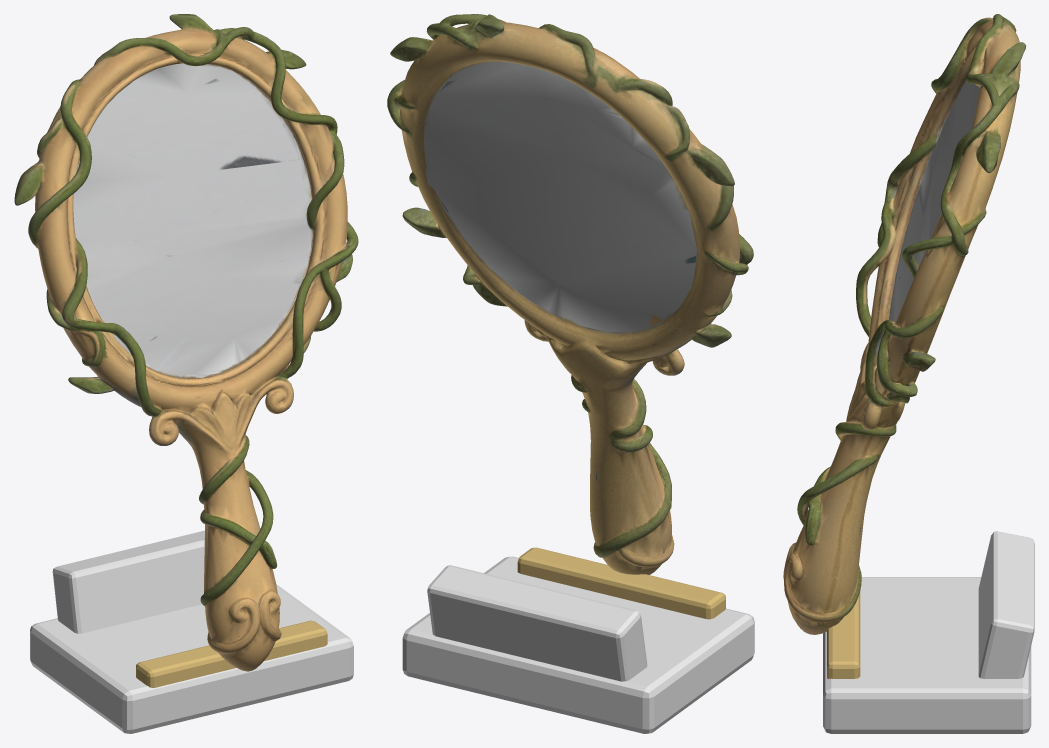
File: Item_V08.fbx
The picture shows the model from 3 angles, left to right: view 1: azimuth 30°, elevation 25°; view 2: azimuth 150°, elevation 25°; view 3: azimuth 270°, elevation 25°; orthographic projection. The views are drawn at different scales.
Parts seen in each view (by area): view 1: Body_V08, StandBase, StandBackLip, StandFrontLip; view 2: Body_V08, StandBase, StandBackLip, StandFrontLip; view 3: Body_V08, StandBase, StandBackLip, StandFrontLip.
Boxes of the visible parts, <box> form: Body_V08: <box>14,14,358,671</box>; StandBase: <box>30,584,353,733</box>; StandBackLip: <box>52,530,204,633</box>; StandFrontLip: <box>136,620,327,687</box>; Body_V08: <box>387,14,753,574</box>; StandBase: <box>402,556,754,733</box>; StandBackLip: <box>427,565,647,681</box>; StandFrontLip: <box>517,547,725,619</box>; Body_V08: <box>783,14,1025,634</box>; StandBase: <box>823,577,1031,733</box>; StandBackLip: <box>978,531,1034,678</box>; StandFrontLip: <box>827,591,860,678</box>.
Size of the model in its own units: 0.1396 by 0.258 by 0.0905.
